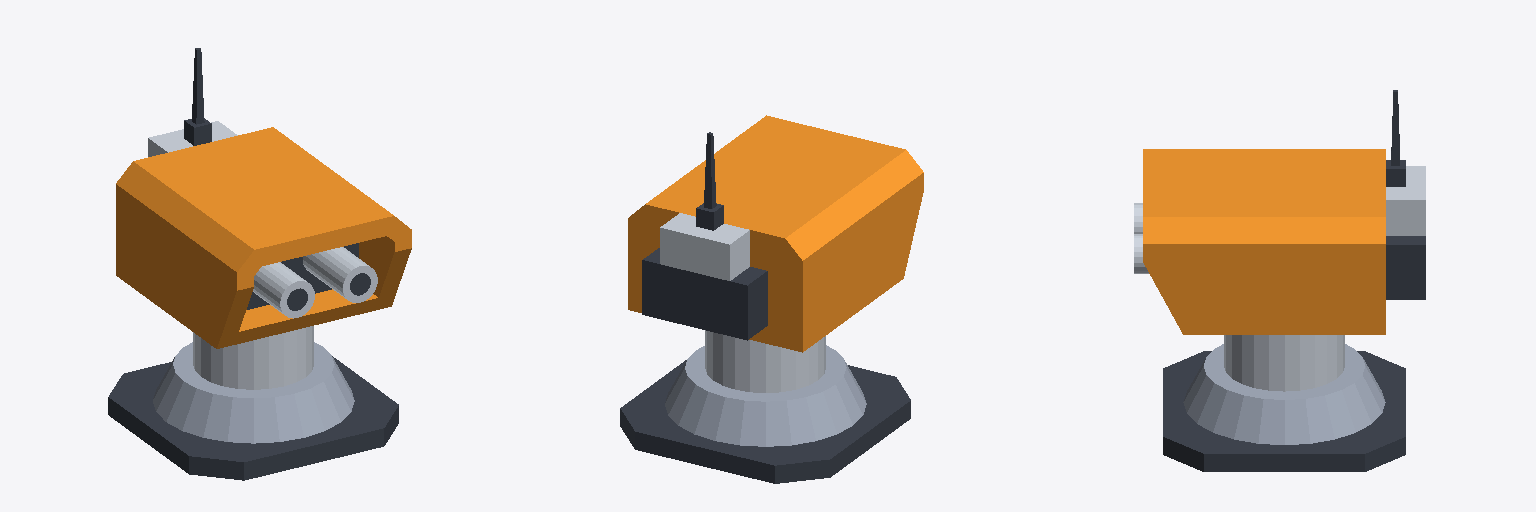
The model's file is turret_single.obj.
The picture shows the model from 3 angles: view 1: azimuth 30°, elevation 25°; view 2: azimuth 150°, elevation 25°; view 3: azimuth 270°, elevation 25°; orthographic projection.
Parts seen in each view (by area): view 1: turret_ID20.001, turret_single_ID9.001, Group_ID29.001, Group.001_ID38.001; view 2: turret_ID20.001, turret_single_ID9.001; view 3: turret_ID20.001, turret_single_ID9.001.
Boxes of the visible parts, x1,y1,x2,y2 form: turret_ID20.001: [116, 48, 411, 348]; turret_single_ID9.001: [108, 326, 398, 480]; Group_ID29.001: [303, 247, 377, 302]; Group.001_ID38.001: [253, 262, 314, 318]; turret_ID20.001: [628, 115, 923, 352]; turret_single_ID9.001: [620, 330, 910, 483]; turret_ID20.001: [1143, 90, 1425, 334]; turret_single_ID9.001: [1163, 335, 1405, 471].
Bounding box in the file's own units: 0.6 × 0.9 × 0.7224.